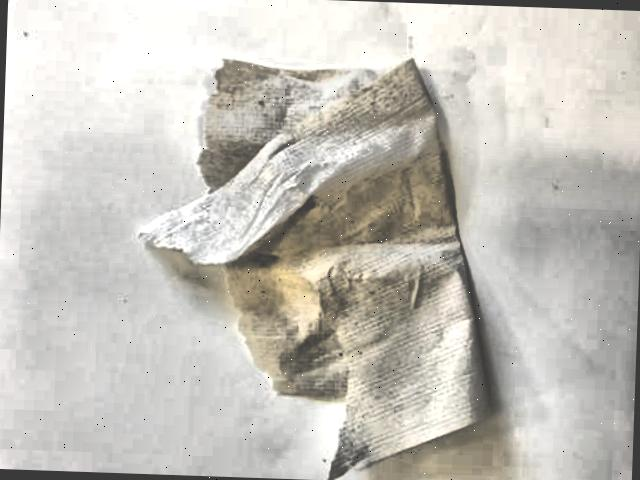Paper: (129, 30, 518, 480)
